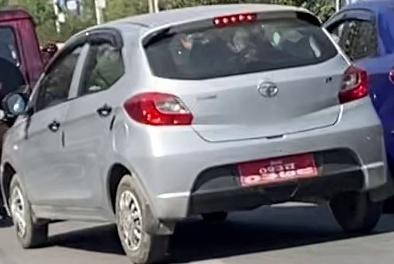license-plate: (236, 150, 326, 191)
